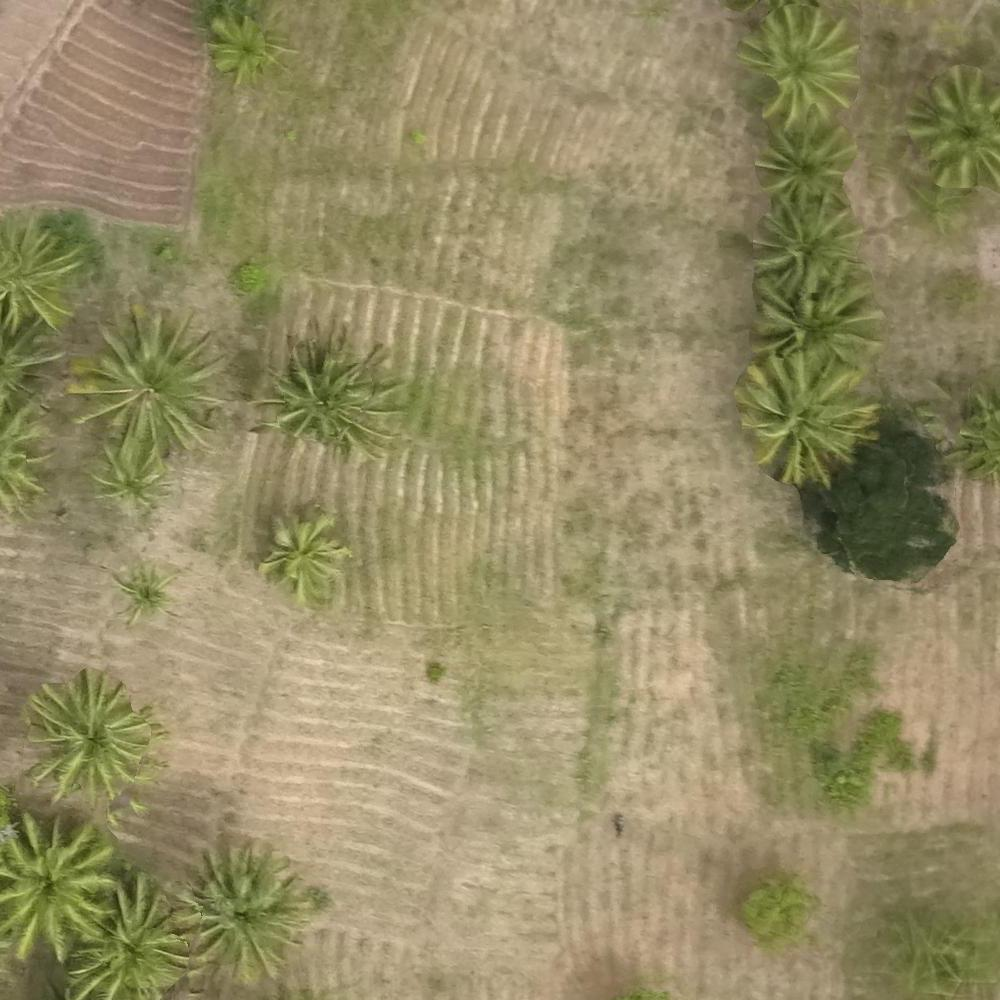Palm: (76, 305, 209, 448), (172, 849, 310, 973), (3, 815, 112, 959), (734, 361, 871, 475), (268, 327, 394, 449), (27, 680, 149, 798), (742, 6, 862, 118), (755, 276, 890, 371), (71, 884, 190, 990), (909, 68, 1000, 187), (754, 200, 861, 294), (260, 515, 350, 602), (757, 128, 857, 205), (210, 14, 298, 83), (92, 444, 172, 513), (109, 561, 180, 624)
